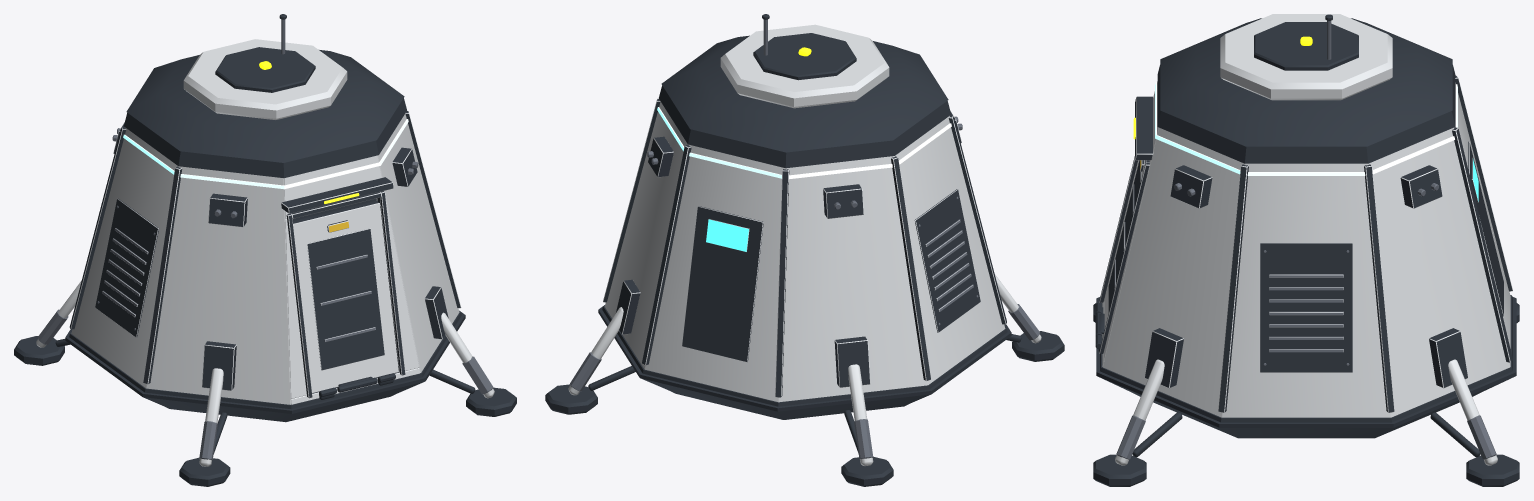
File: LandingCapsule.fbx
The picture shows the model from 3 angles, left to right: view 1: azimuth 30°, elevation 25°; view 2: azimuth 150°, elevation 25°; view 3: azimuth 270°, elevation 25°; orthographic projection. The views are drawn at different scales.
Visible parts, largest first — view 1: Body, Door; view 2: Body; view 3: Body, Door.
Boxes of the visible parts, <box> form: Body: <box>14,14,516,486</box>; Door: <box>293,201,398,393</box>; Body: <box>545,14,1064,486</box>; Body: <box>1093,14,1519,486</box>; Door: <box>1095,160,1144,336</box>.
Bounding box in the file's own units: 4.12 × 4.24 × 4.12.
